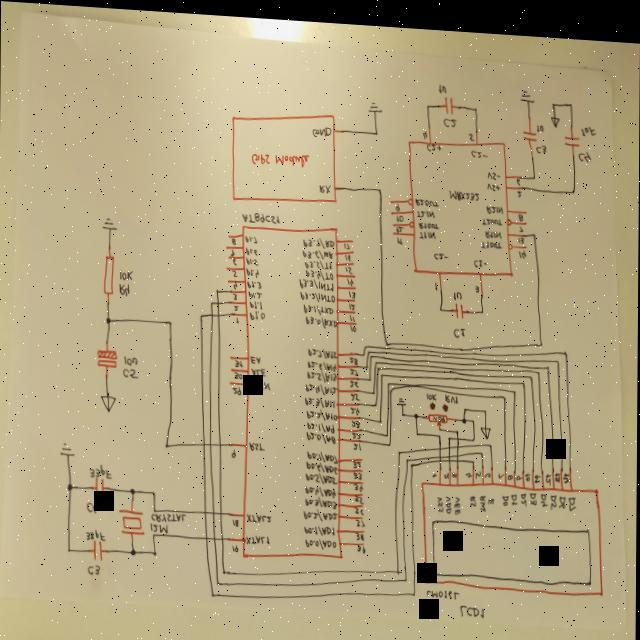capacitor: (95, 345, 118, 366), (94, 475, 106, 499), (91, 537, 103, 560), (562, 125, 580, 140), (521, 121, 537, 136), (443, 88, 453, 108), (454, 294, 464, 313)
crossover: (404, 375, 425, 382), (203, 505, 208, 513), (212, 531, 217, 539), (220, 531, 225, 539), (211, 506, 216, 512), (204, 531, 208, 538), (216, 296, 220, 303), (201, 438, 206, 443), (208, 438, 212, 444), (219, 507, 223, 513), (210, 309, 214, 314), (216, 309, 220, 314), (218, 439, 222, 443), (438, 452, 442, 456), (456, 430, 459, 434), (456, 452, 459, 456), (447, 452, 451, 455), (456, 447, 459, 451), (456, 438, 459, 442), (448, 439, 451, 443), (438, 440, 441, 444), (448, 448, 450, 451), (439, 449, 441, 452)
ground: (99, 391, 117, 412), (101, 214, 118, 230), (366, 94, 382, 109), (60, 441, 75, 456), (519, 82, 533, 95), (548, 107, 559, 120), (396, 390, 406, 402)
junction: (129, 484, 137, 495), (104, 313, 112, 323), (128, 545, 136, 555), (66, 480, 73, 490), (460, 409, 466, 418), (152, 547, 158, 555), (530, 166, 536, 174), (210, 588, 216, 596), (198, 309, 204, 317), (66, 545, 72, 552), (151, 487, 157, 494), (537, 333, 543, 340), (562, 342, 568, 349), (166, 317, 172, 324), (545, 356, 551, 363), (550, 93, 555, 101), (214, 284, 219, 292), (479, 301, 484, 308), (377, 181, 382, 188), (415, 424, 420, 431), (164, 439, 169, 446), (438, 300, 443, 306), (568, 94, 573, 100), (570, 180, 575, 186), (411, 585, 416, 591), (413, 407, 418, 413), (501, 387, 506, 393), (482, 401, 487, 407), (425, 97, 429, 104), (531, 224, 535, 231), (396, 562, 400, 569), (473, 99, 477, 105), (373, 124, 377, 130), (222, 566, 226, 572), (216, 577, 220, 583), (462, 399, 466, 405), (555, 350, 559, 356), (209, 297, 213, 302), (521, 373, 525, 378), (455, 422, 459, 427), (512, 382, 516, 386), (447, 430, 451, 434), (151, 530, 155, 534), (471, 453, 475, 457), (397, 444, 400, 449), (388, 436, 391, 441), (379, 413, 382, 418), (405, 451, 408, 456), (386, 375, 389, 380), (389, 382, 392, 387), (437, 428, 440, 432), (385, 336, 388, 340), (363, 339, 366, 343), (153, 506, 156, 510), (374, 397, 377, 401), (372, 385, 375, 389), (368, 372, 371, 376), (365, 359, 368, 363), (366, 344, 369, 348), (379, 367, 382, 371), (374, 355, 377, 359), (537, 363, 540, 367), (529, 367, 532, 371), (438, 421, 441, 425), (472, 431, 475, 435), (471, 412, 474, 416), (480, 444, 483, 448), (489, 436, 492, 440), (409, 457, 412, 461), (370, 348, 372, 353), (401, 406, 403, 410), (386, 427, 388, 431), (377, 361, 379, 365)
resistor: (101, 251, 116, 296), (427, 406, 447, 420)
source: (479, 418, 491, 432)
text: (250, 146, 309, 165), (241, 207, 280, 221), (303, 518, 337, 533), (298, 273, 334, 287), (304, 532, 338, 546), (303, 503, 337, 517), (302, 231, 334, 245), (305, 466, 337, 480), (306, 445, 338, 459), (301, 298, 335, 311), (88, 461, 112, 479), (151, 509, 187, 521), (299, 286, 335, 298), (306, 365, 336, 379), (305, 378, 337, 391), (305, 491, 337, 504), (304, 480, 336, 493), (305, 456, 337, 469), (305, 403, 337, 416), (426, 581, 460, 593), (307, 341, 335, 355), (306, 426, 336, 439), (245, 528, 270, 543), (302, 243, 333, 255), (304, 391, 335, 403), (246, 507, 272, 521), (305, 264, 333, 277), (305, 311, 335, 323), (459, 597, 484, 611), (307, 355, 336, 367), (304, 253, 332, 265), (448, 183, 478, 194), (306, 417, 334, 428), (311, 119, 331, 134), (85, 527, 105, 541), (414, 191, 438, 202), (484, 196, 504, 209), (481, 208, 502, 220), (482, 221, 502, 233), (480, 232, 501, 243), (415, 202, 436, 213), (118, 267, 134, 281), (576, 142, 591, 156), (417, 214, 438, 224), (418, 223, 437, 234), (580, 116, 596, 129), (121, 364, 137, 377), (122, 352, 138, 365), (150, 520, 168, 531), (248, 437, 265, 448), (86, 498, 99, 512), (250, 377, 270, 386), (469, 142, 487, 152), (432, 245, 448, 256), (249, 306, 265, 317), (472, 251, 486, 263), (86, 562, 100, 574), (453, 488, 461, 509), (444, 488, 452, 508), (453, 319, 465, 332), (245, 263, 259, 274), (444, 386, 458, 397), (436, 488, 444, 507), (250, 363, 265, 373), (318, 178, 330, 190), (442, 111, 456, 121), (486, 175, 500, 185), (426, 137, 441, 146), (246, 276, 261, 285), (568, 487, 576, 503), (486, 164, 500, 173), (248, 286, 262, 295), (355, 525, 365, 537), (540, 484, 548, 499), (245, 253, 258, 262), (452, 283, 462, 294), (535, 136, 546, 146), (232, 381, 242, 392), (245, 231, 257, 240), (249, 351, 261, 360), (245, 243, 257, 252), (480, 487, 486, 505), (249, 297, 262, 305), (558, 487, 566, 500), (529, 484, 537, 497), (550, 485, 556, 502), (350, 400, 360, 410), (510, 485, 517, 498), (354, 489, 364, 498), (354, 501, 364, 510), (356, 538, 365, 548), (233, 367, 243, 376), (426, 385, 436, 394), (231, 539, 239, 550), (432, 274, 439, 286), (502, 487, 509, 499), (469, 488, 476, 500), (520, 485, 526, 499), (562, 463, 569, 475), (545, 464, 551, 478), (234, 355, 243, 364), (518, 241, 526, 251), (232, 514, 240, 524), (437, 77, 445, 87), (351, 426, 361, 434), (353, 478, 363, 486), (355, 513, 365, 521), (352, 466, 362, 474), (350, 387, 360, 395), (348, 351, 358, 359), (430, 463, 437, 474), (395, 208, 403, 217), (351, 414, 360, 422), (352, 455, 361, 463), (345, 260, 353, 269), (349, 374, 358, 382), (349, 362, 358, 370), (467, 125, 474, 135), (473, 277, 480, 287), (533, 465, 540, 475), (230, 444, 236, 455), (535, 116, 543, 124), (395, 219, 403, 227), (353, 437, 361, 445), (349, 318, 356, 327), (346, 272, 353, 281), (421, 123, 427, 133), (554, 464, 560, 474), (524, 463, 530, 473), (348, 285, 355, 293), (396, 230, 402, 239), (349, 308, 355, 317), (348, 296, 354, 305), (443, 464, 449, 473), (475, 463, 481, 472), (487, 490, 494, 497), (517, 205, 523, 213), (231, 265, 237, 273), (345, 248, 351, 256), (233, 301, 239, 308), (451, 464, 457, 471), (517, 229, 523, 236), (343, 237, 349, 244), (465, 465, 472, 471), (507, 466, 513, 473), (233, 276, 237, 286), (484, 465, 490, 471), (498, 465, 504, 471), (515, 466, 521, 472), (516, 183, 521, 190), (232, 289, 237, 296), (231, 233, 235, 241), (515, 170, 519, 178), (395, 197, 399, 205), (230, 245, 234, 253), (518, 218, 522, 225), (232, 255, 236, 262), (235, 313, 238, 320)
